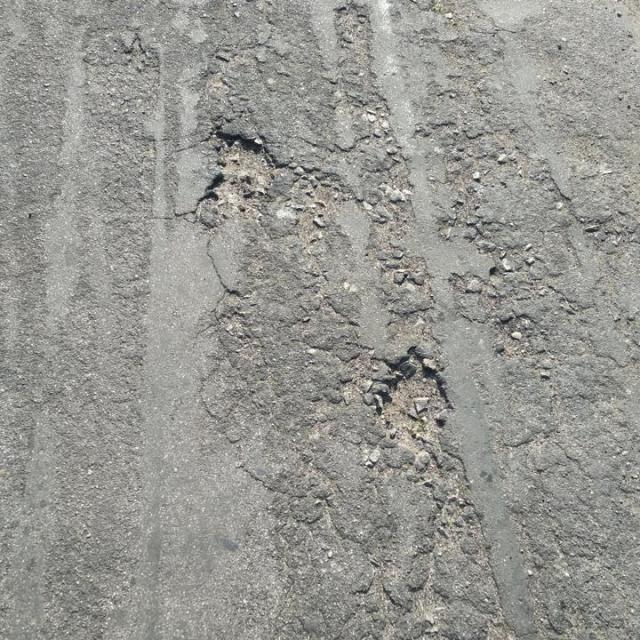pothole: (374, 343, 454, 450), (198, 124, 279, 222)
